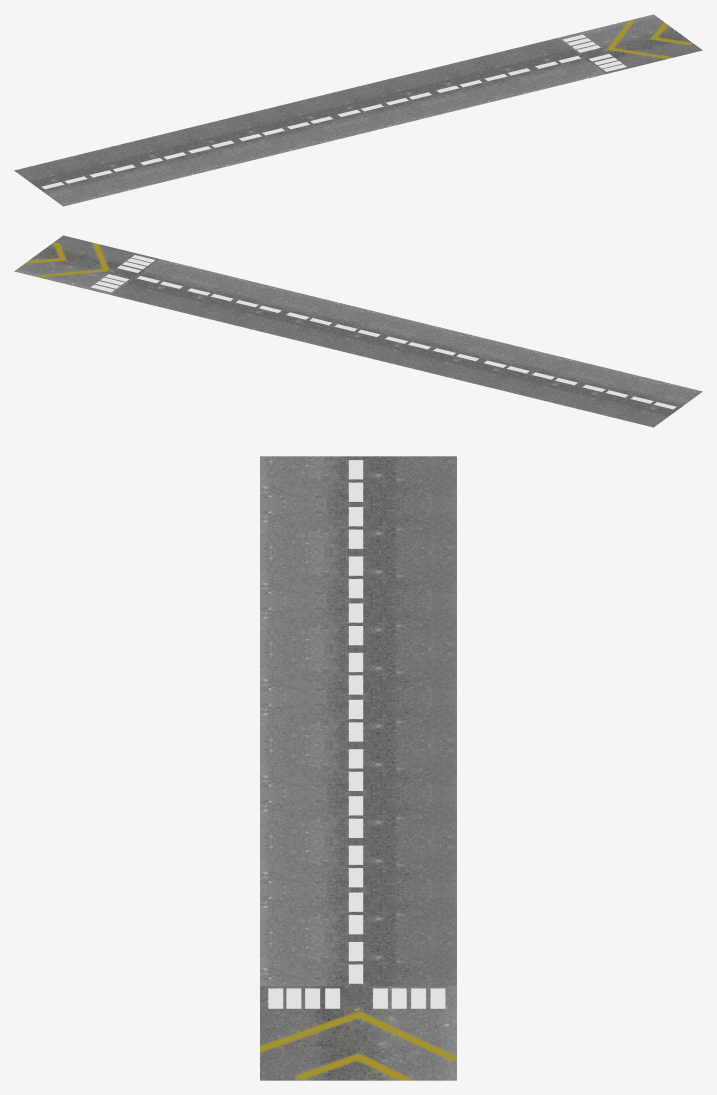
The model's file is Runway.fbx.
3 renders of one model, top to bottom at view 1: azimuth 30°, elevation 25°; view 2: azimuth 150°, elevation 25°; view 3: azimuth 270°, elevation 25°, orthographic. The views are drawn at different scales.
Visible parts, largest first — view 1: Plane; view 2: Plane; view 3: Plane.
Part boxes in pixels (left/top/right/bottom): Plane: left=14, top=14, right=702, bottom=206; Plane: left=14, top=235, right=702, bottom=427; Plane: left=260, top=456, right=456, bottom=1080.
Bounding box in the file's own units: 3000 × 0.000327 × 400.
Materials: 1 (1 with a texture image).
